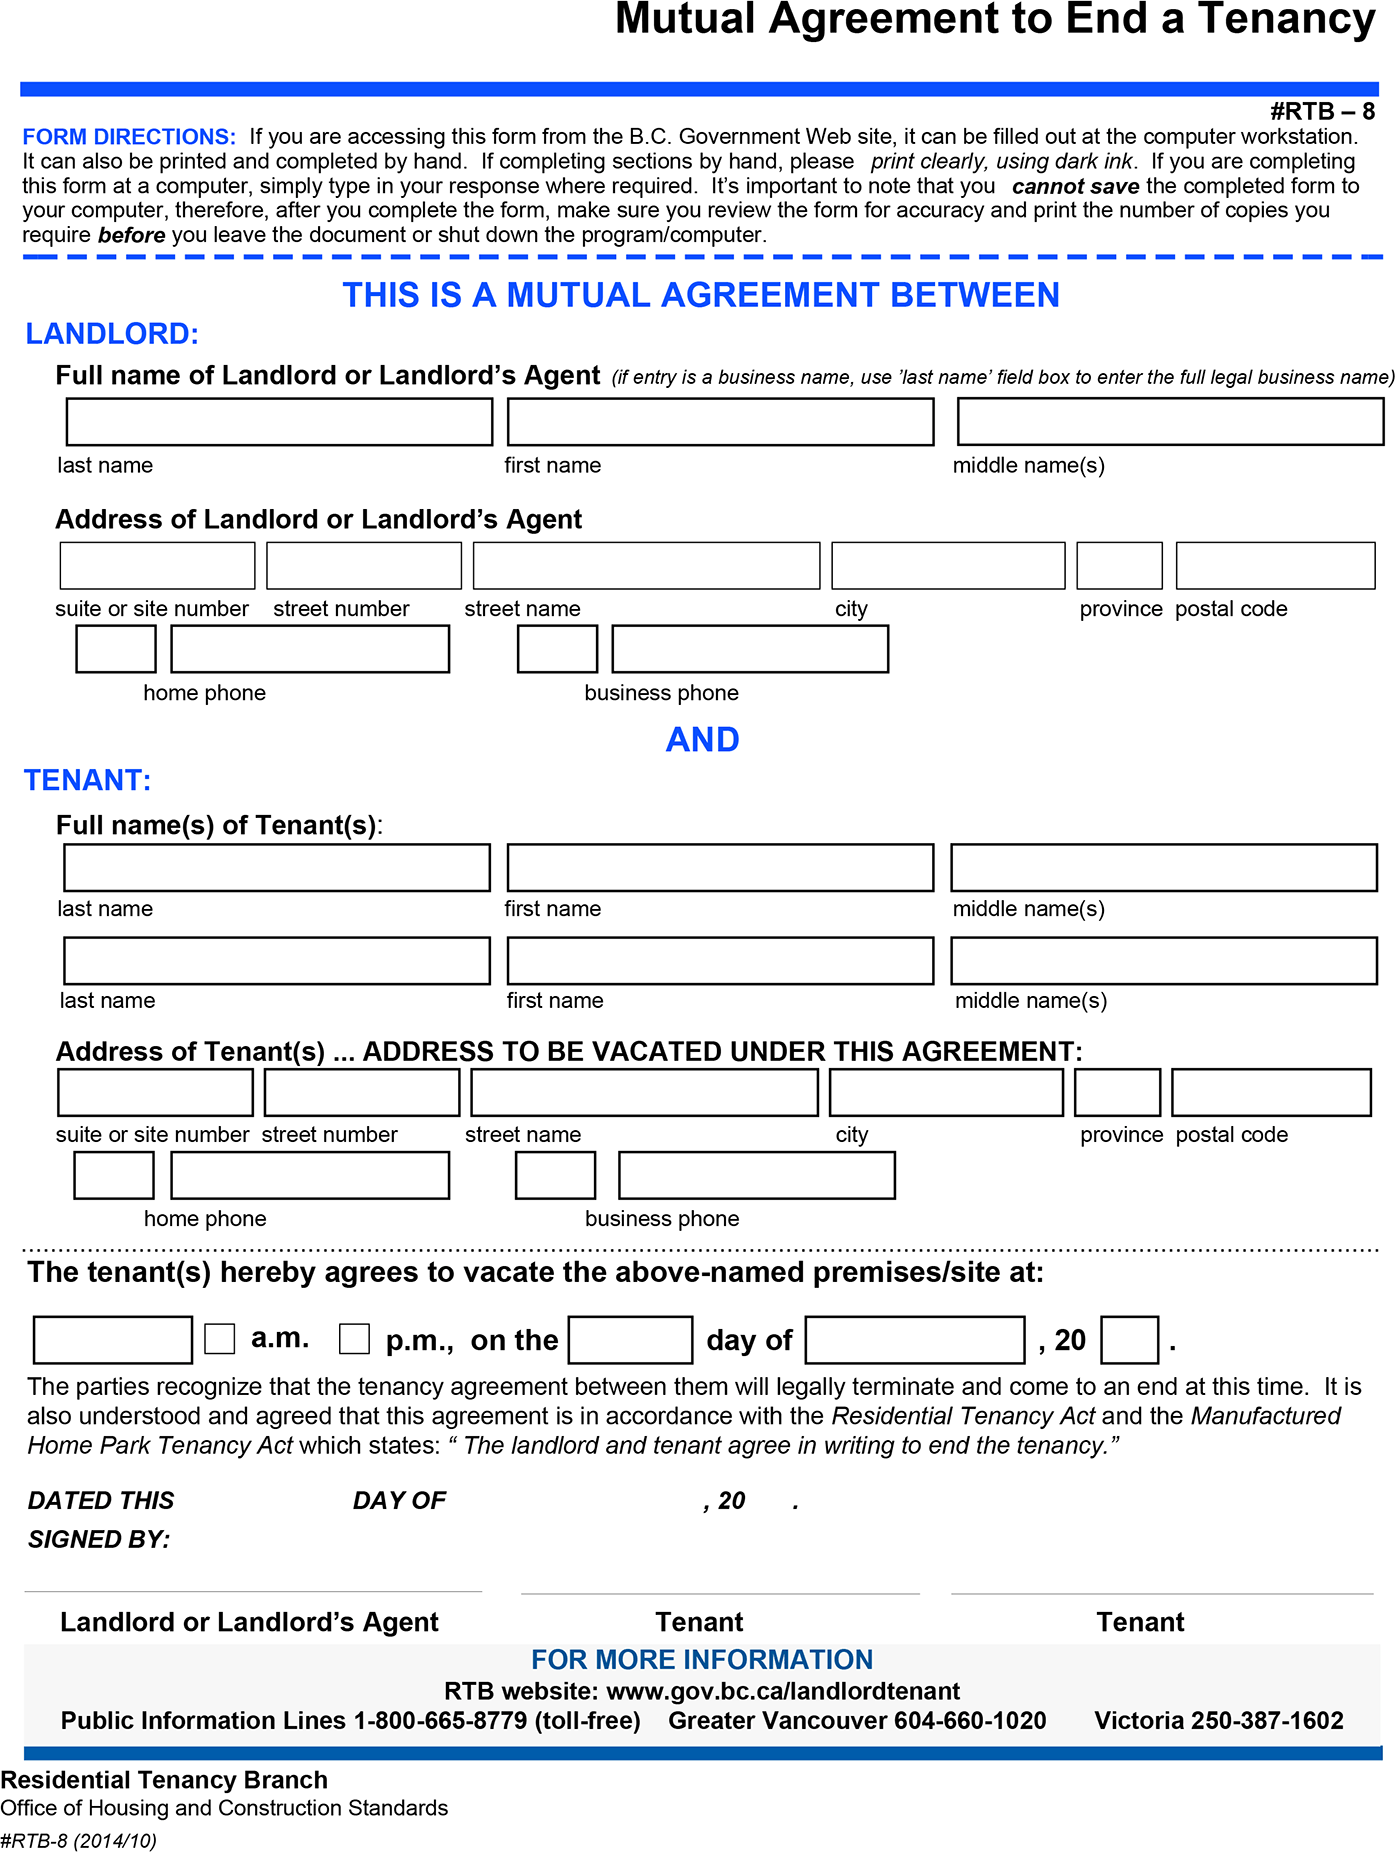checkbox: (333, 1319, 374, 1360), (204, 1316, 237, 1363)
textbox: (498, 925, 944, 996), (62, 387, 495, 460), (939, 926, 1386, 995), (500, 387, 942, 456), (950, 382, 1388, 451), (56, 927, 498, 995), (939, 837, 1386, 903), (56, 837, 500, 903), (463, 527, 829, 607), (503, 837, 939, 903), (467, 1053, 826, 1127), (163, 608, 457, 689), (607, 1138, 907, 1215), (607, 612, 895, 689), (161, 1143, 462, 1210), (818, 1059, 1073, 1131), (825, 529, 1071, 601), (259, 1052, 469, 1127), (1163, 529, 1380, 601), (796, 1310, 1032, 1376), (48, 1056, 262, 1127), (259, 529, 469, 601), (1161, 1059, 1382, 1124), (54, 533, 261, 596), (26, 1310, 198, 1368), (561, 1308, 702, 1368), (1071, 529, 1175, 602), (1065, 1058, 1169, 1131), (506, 1138, 607, 1212), (56, 618, 167, 678), (69, 1143, 163, 1207), (511, 618, 607, 681), (1087, 1308, 1175, 1374)
textline: (948, 1560, 1379, 1615), (19, 1557, 488, 1601), (517, 1556, 923, 1604)
